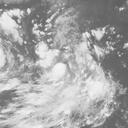cyclone: (35, 44, 104, 113)
